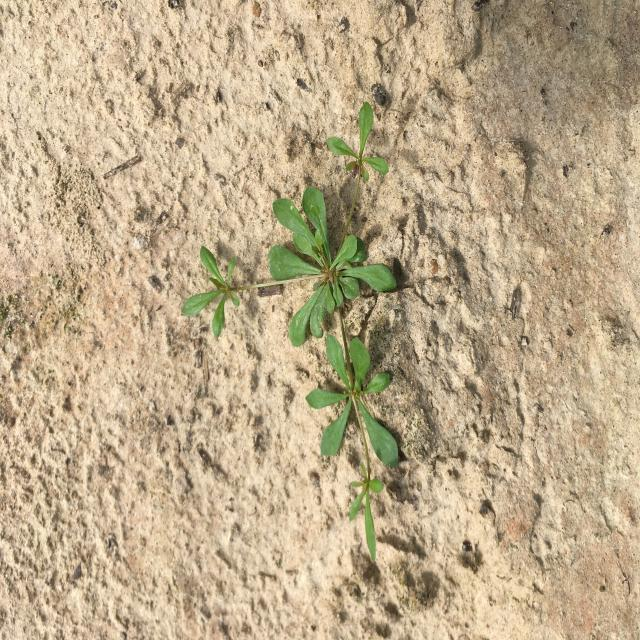Carpetweed: (181, 101, 399, 562)
